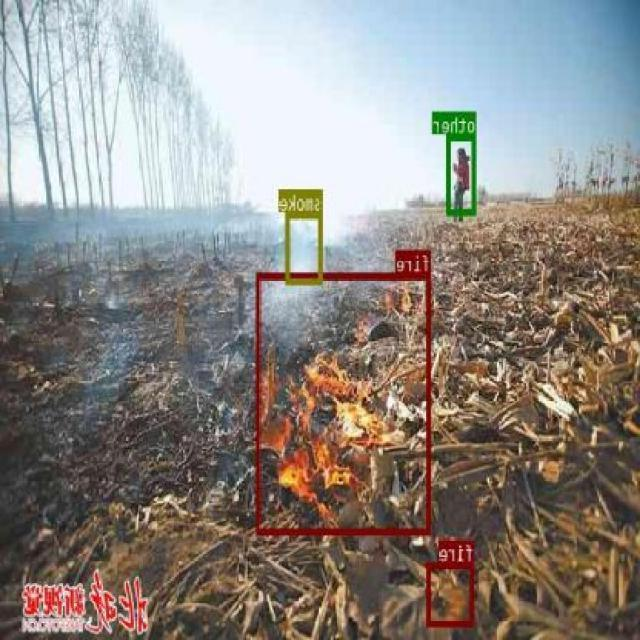Fire: (256, 272, 432, 534), (428, 562, 476, 624)
Smoke: (286, 210, 325, 284)
